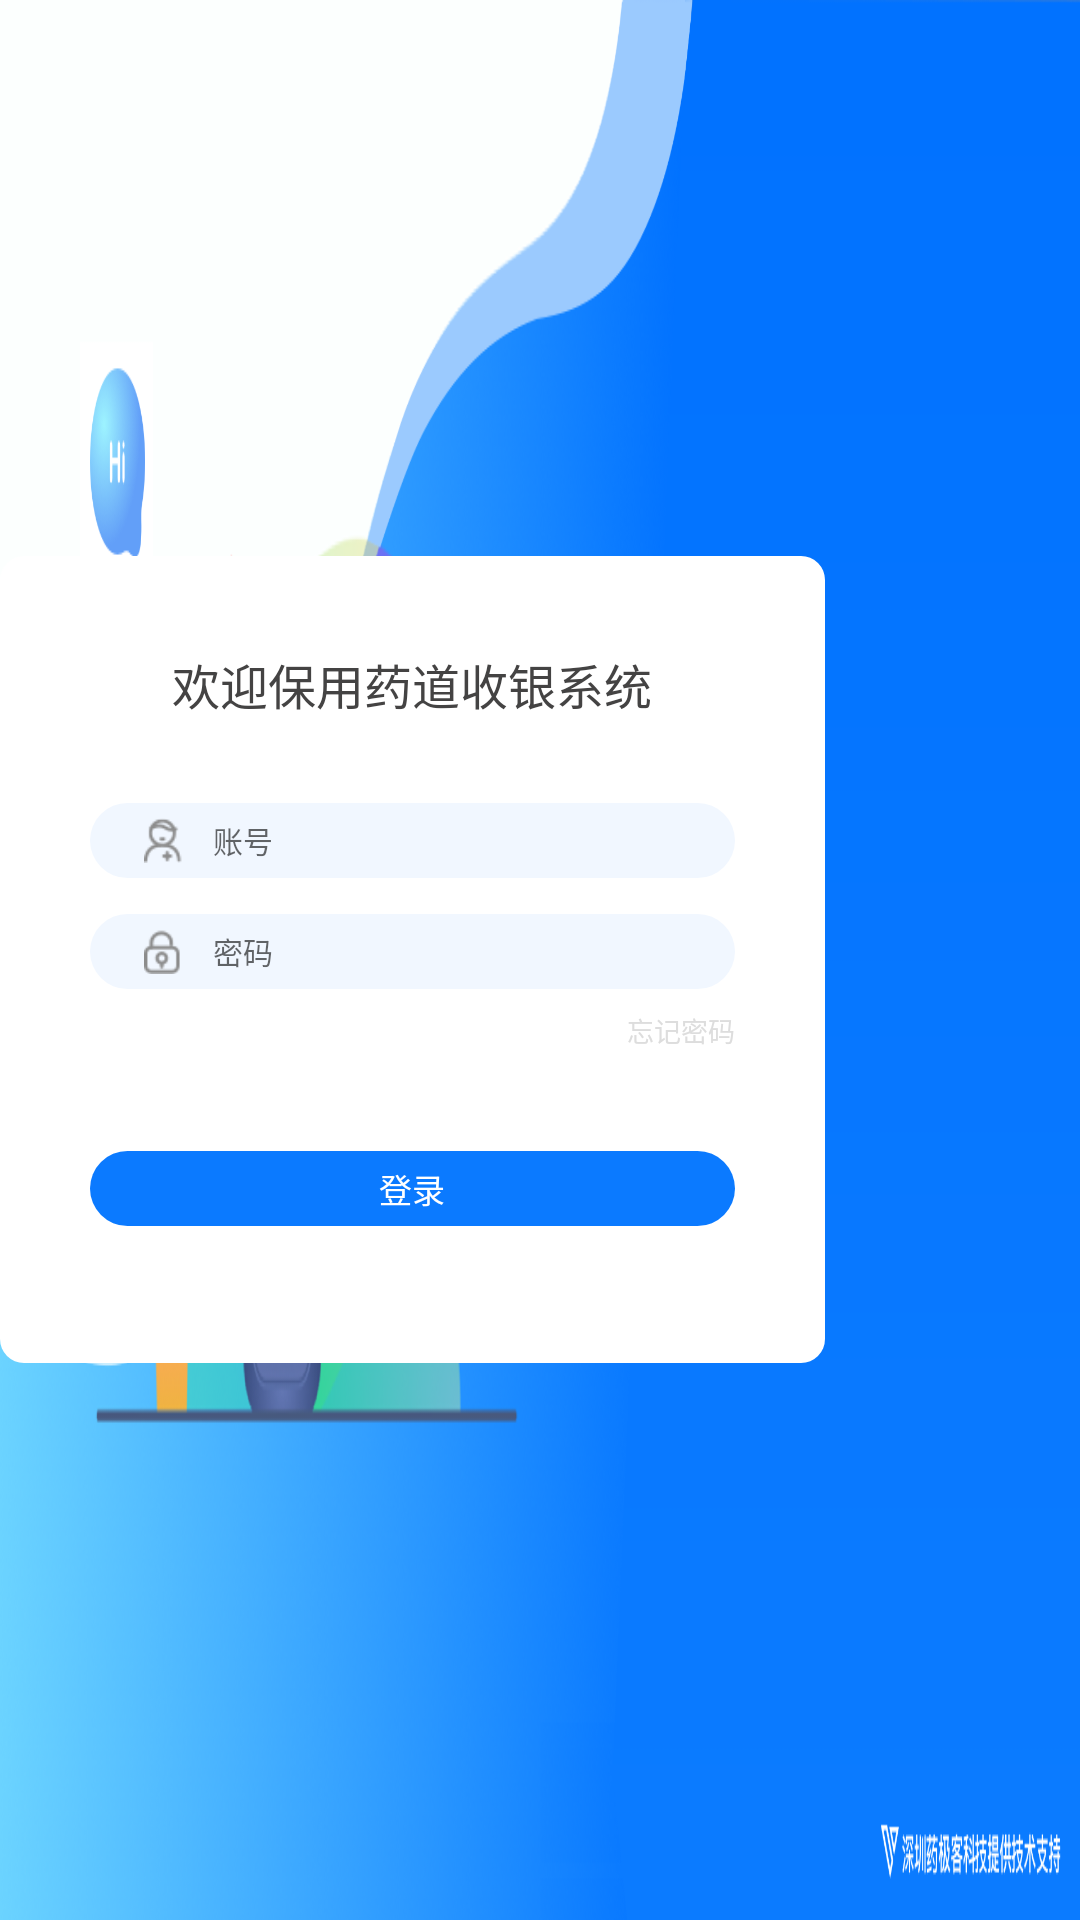

Icon click points for this 1080px×1920px phone screenshot, format [x,y]:
user: [162,841]
